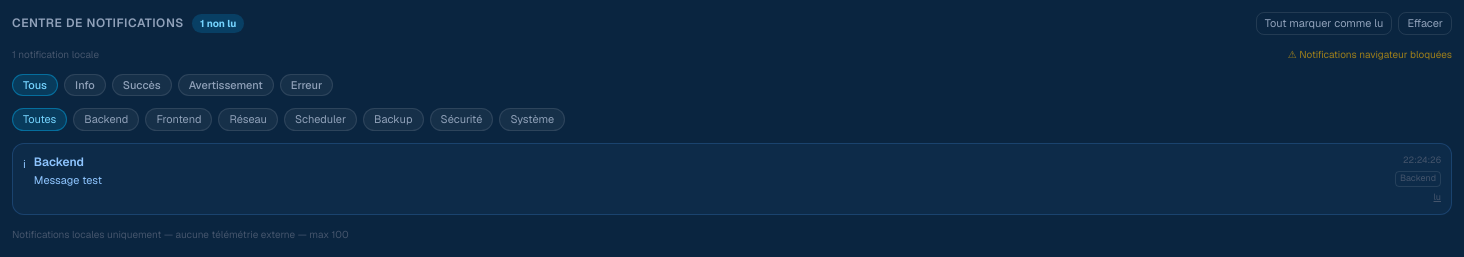
NotificationsCenterPanel — effacement avec confirmation › efface toutes les notifications après double confirmation
Click the button "Effacer".
click(1425, 23)  # box [1398,12,1452,34]
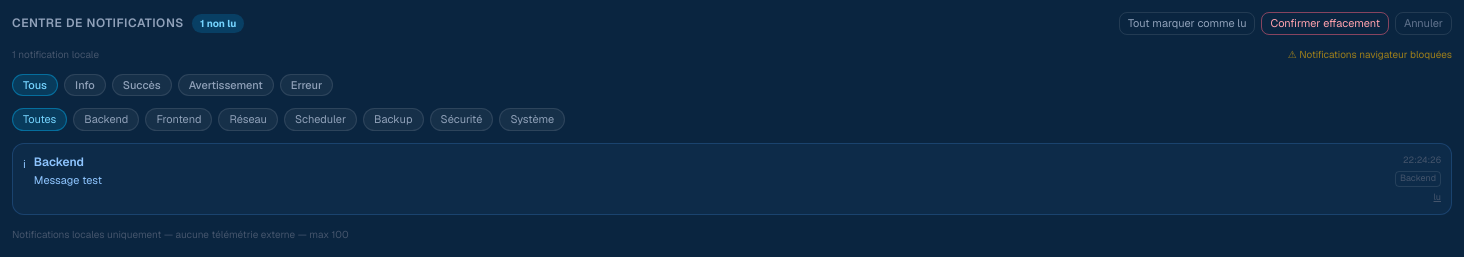
Click the button "Confirmer effacement".
click(1325, 23)  # box [1262,12,1389,34]
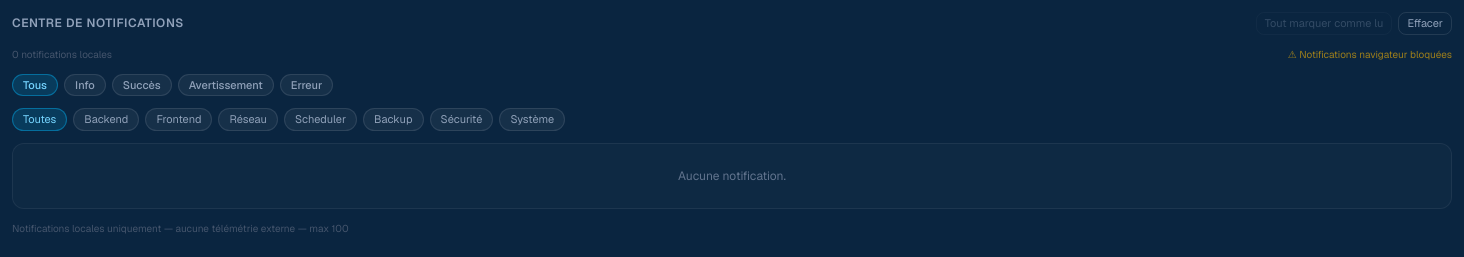
Expected: the text "Aucune notification." is shown, [12,142,1452,208]
